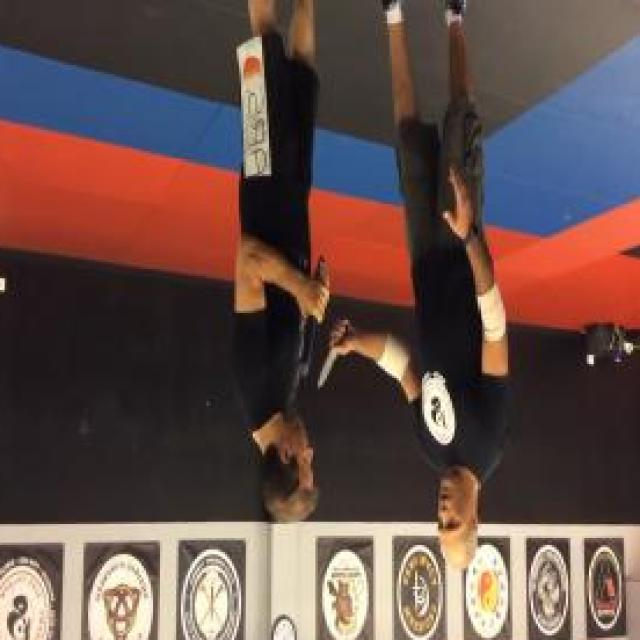knife: (316, 318, 350, 397)
